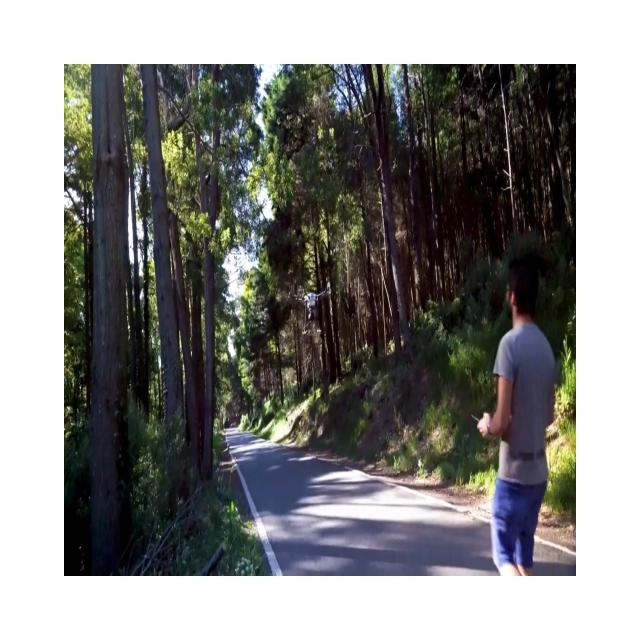drone: (295, 281, 330, 335)
